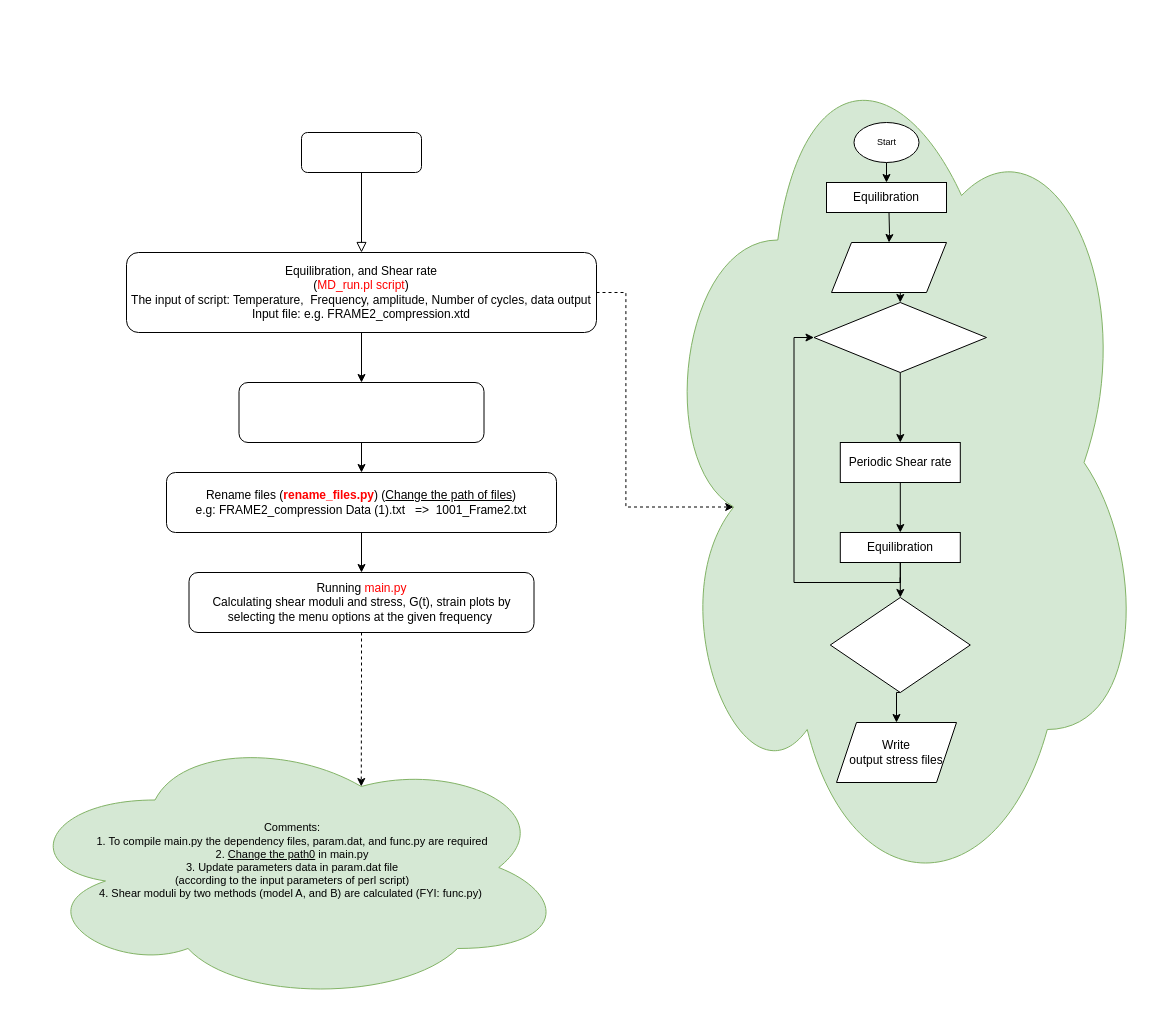
This 1163x1020 diagram has some shape labels left out. Each missing label, with the centre of its shape:
"Building Amorphous cell" goes at [361,152].
"for (time = 0; simulation time)" goes at [899,337].
"if time == data_output/cycles" goes at [899,644].
"Input from script" goes at [888,267].
"Output: Stress data files (e.g. FRAME2_compression Data (1).txt ...)" goes at [361,412].
